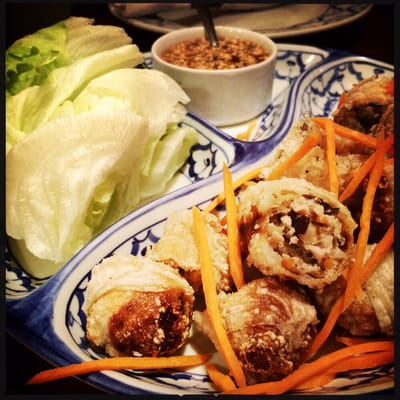salad: (193, 3, 220, 48)
sandwich: (27, 356, 212, 379)
soup: (6, 66, 199, 278), (81, 255, 196, 359)
sushi: (143, 25, 277, 127)
